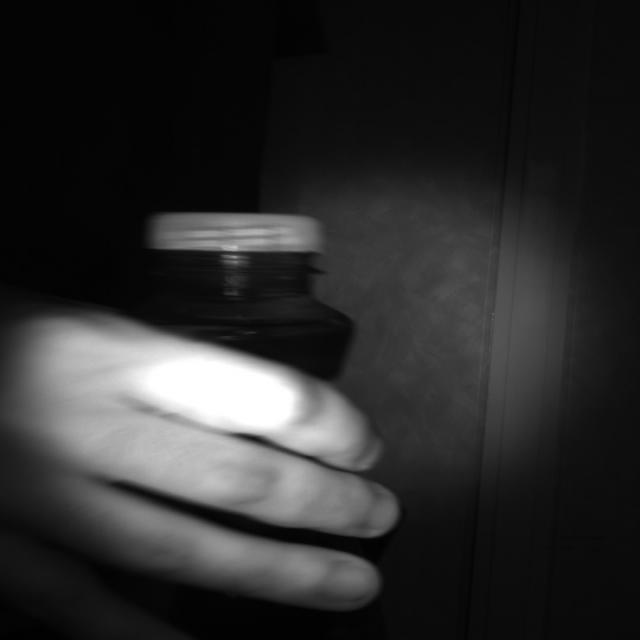Not Good: (142, 212, 329, 274)
